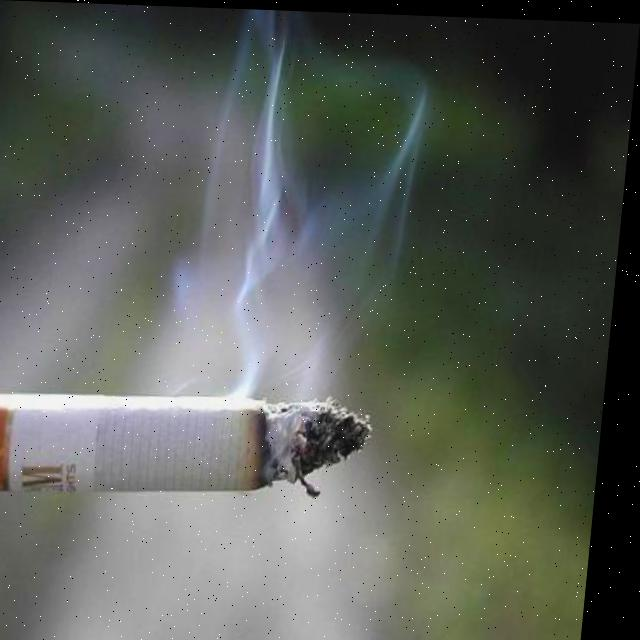cigarette: (0, 384, 384, 506)
